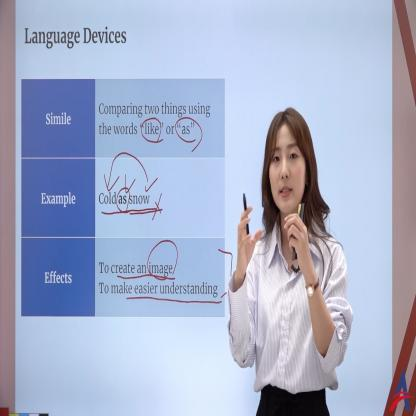streamer: (227, 105, 353, 416)
